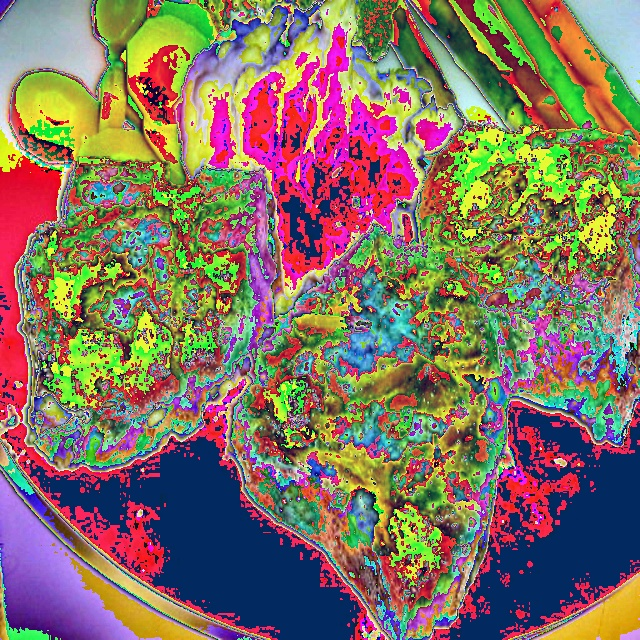background: (9, 0, 639, 640)
